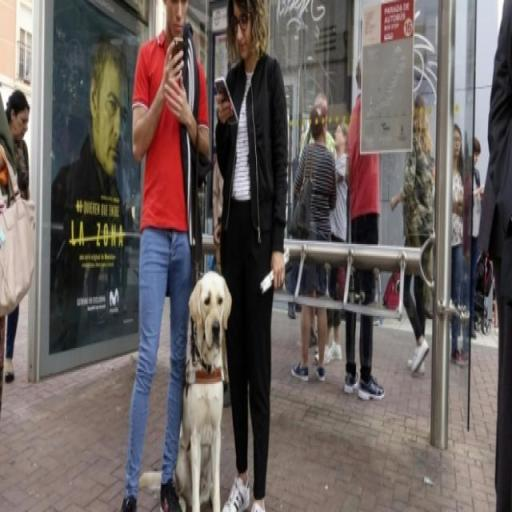person: (126, 1, 211, 512), (218, 1, 289, 512), (346, 56, 388, 401), (292, 105, 339, 383), (392, 93, 434, 379), (6, 90, 31, 385), (328, 126, 350, 363), (452, 124, 468, 370), (471, 138, 482, 341)
